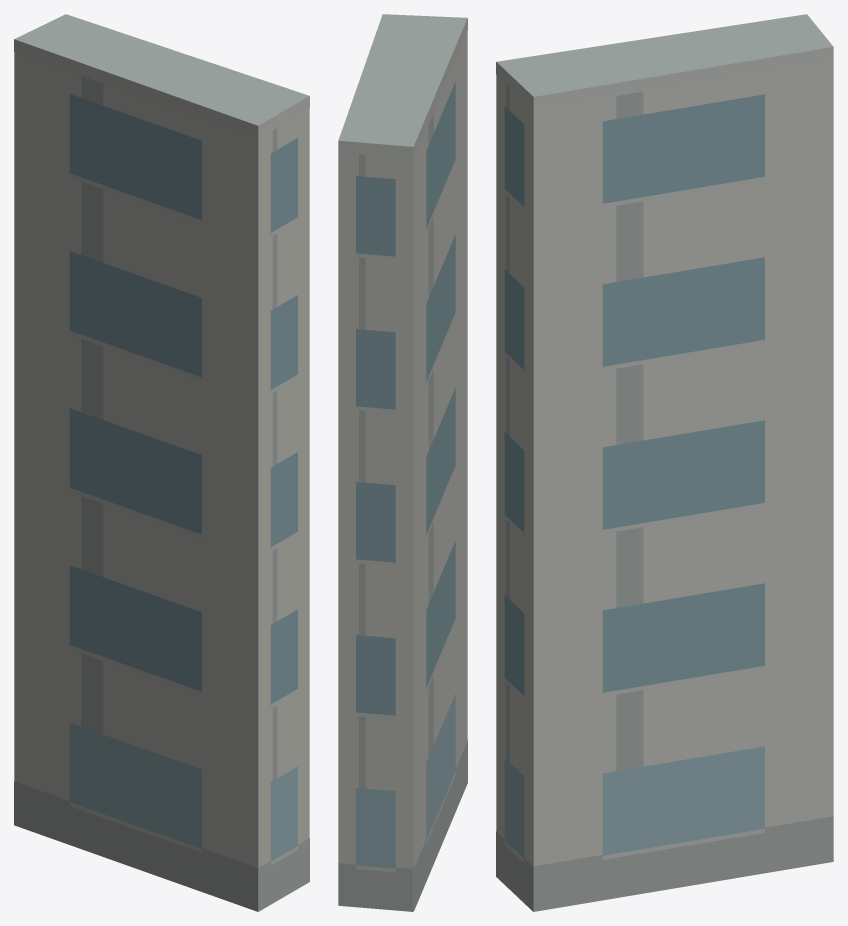
File: survey-upis-32573225.glb
The picture shows the model from 3 angles, left to right: view 1: azimuth 30°, elevation 25°; view 2: azimuth 150°, elevation 25°; view 3: azimuth 270°, elevation 25°; orthographic projection. The views are drawn at different scales.
Parts seen in each view (by area): view 1: survey-upis-32573225.tmp; view 2: survey-upis-32573225.tmp; view 3: survey-upis-32573225.tmp.
Part boxes in pixels (x1,y1,x2,y2): survey-upis-32573225.tmp: (14, 14, 309, 911); survey-upis-32573225.tmp: (338, 14, 467, 911); survey-upis-32573225.tmp: (496, 14, 833, 911).
Size of the model in its own units: 3.33 by 15.25 by 5.73.
